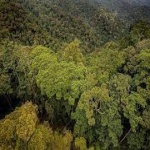Forest: (5, 6, 147, 147)
